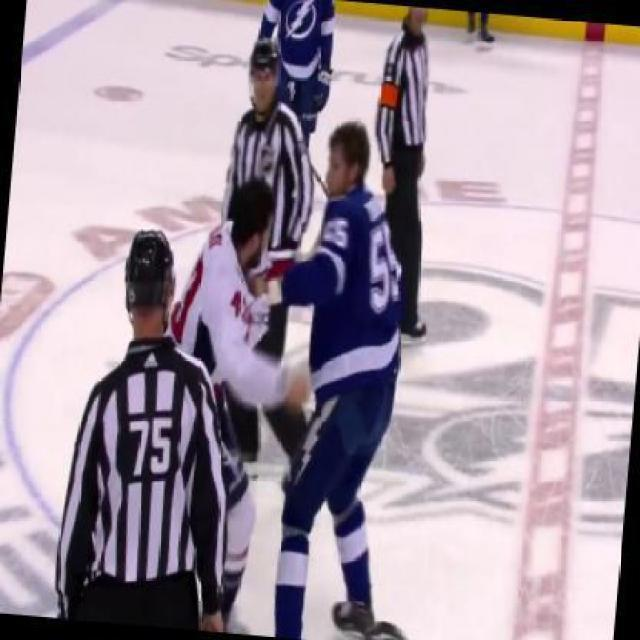fight: (142, 104, 424, 638)
